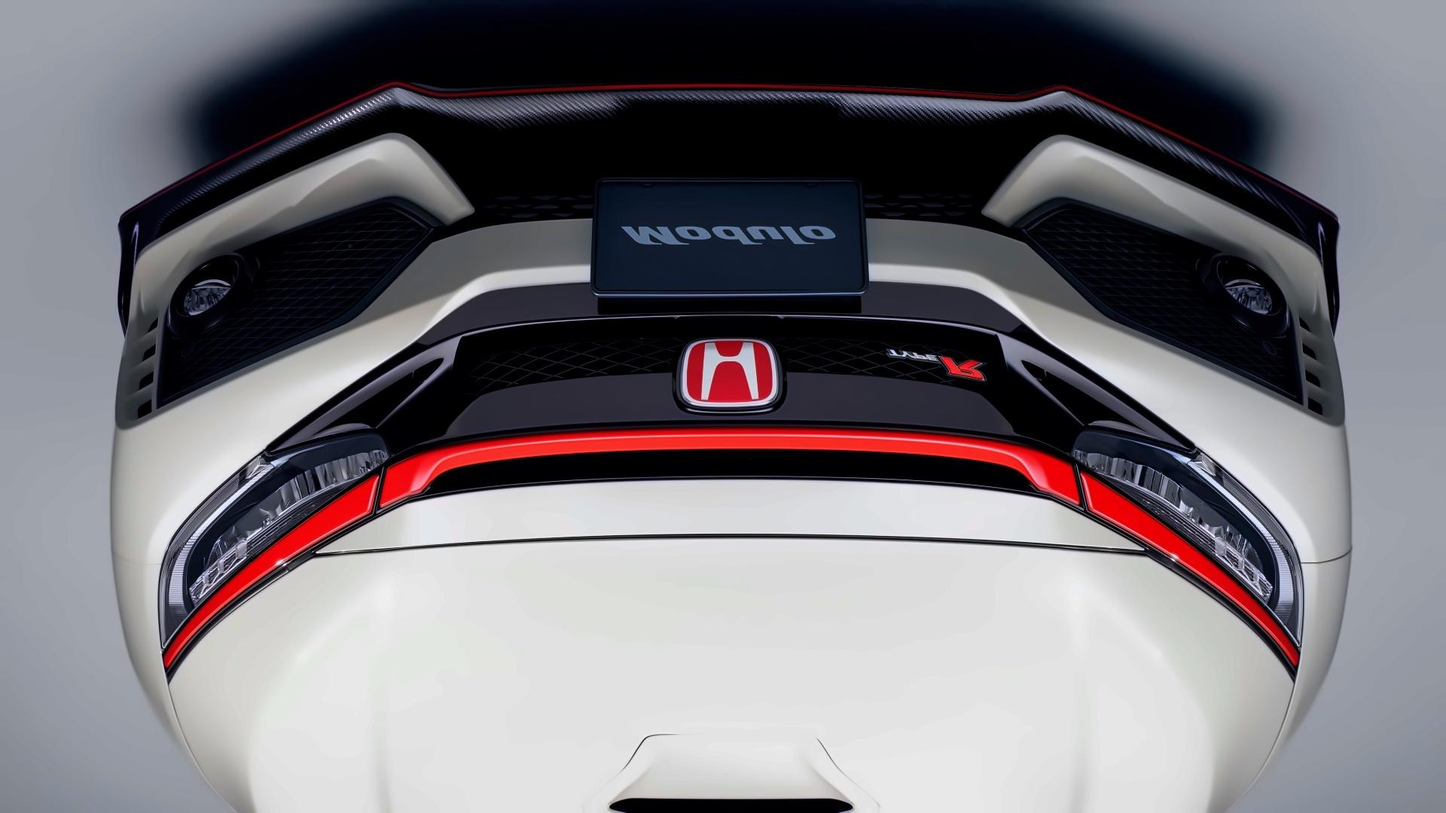Car hood: (163, 457, 1299, 813)
Front bumper: (91, 58, 1372, 546)
Headlight - -L-: (141, 412, 395, 690)
Headlight - -R-: (1060, 409, 1313, 690)
